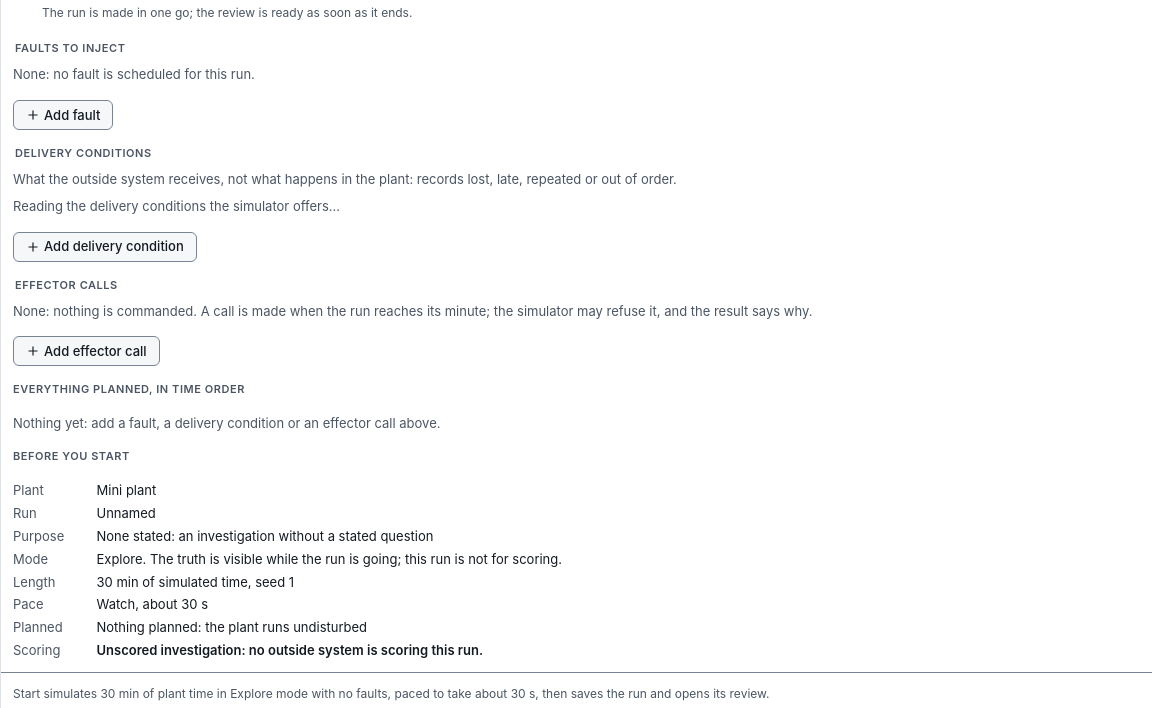
Test case: the unit an effector argument declares, in the run plan › shows none when the argument declares none
(page scrolled)
Click the button "Add effector call" at [86, 351], box [13,336,160,366]
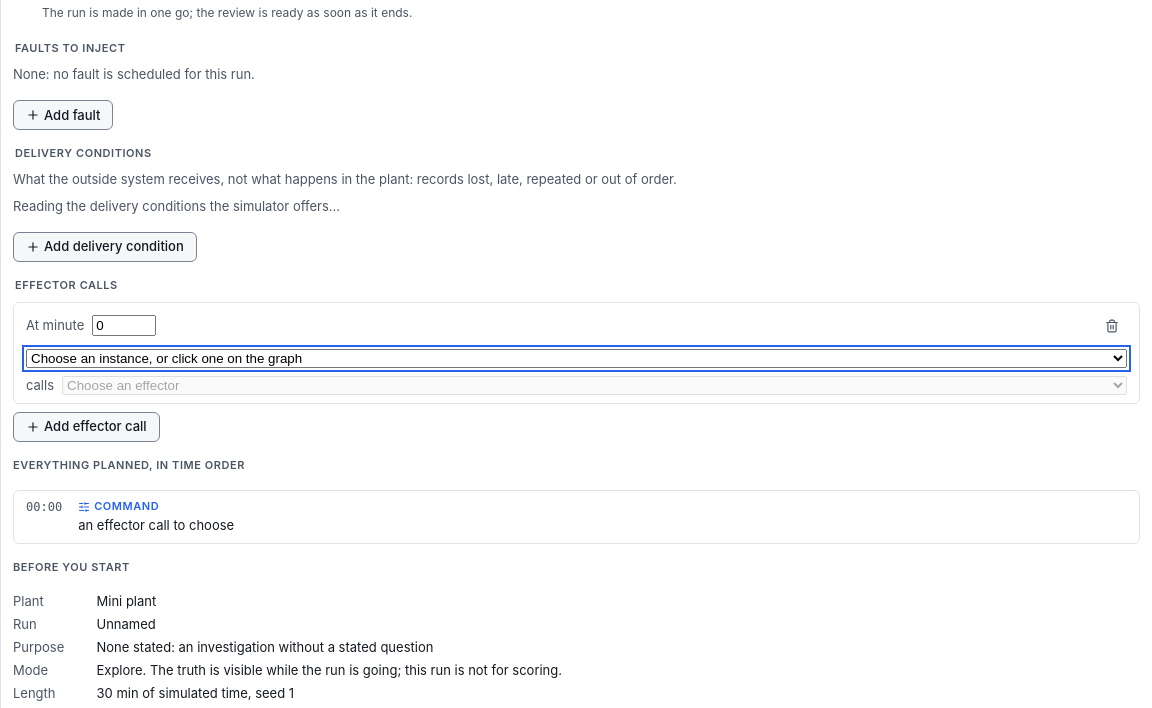
Select "CH-1 · chiller" in the dropdown named "Effector call 1 instance" at [576, 358], box [26,349,1127,368]
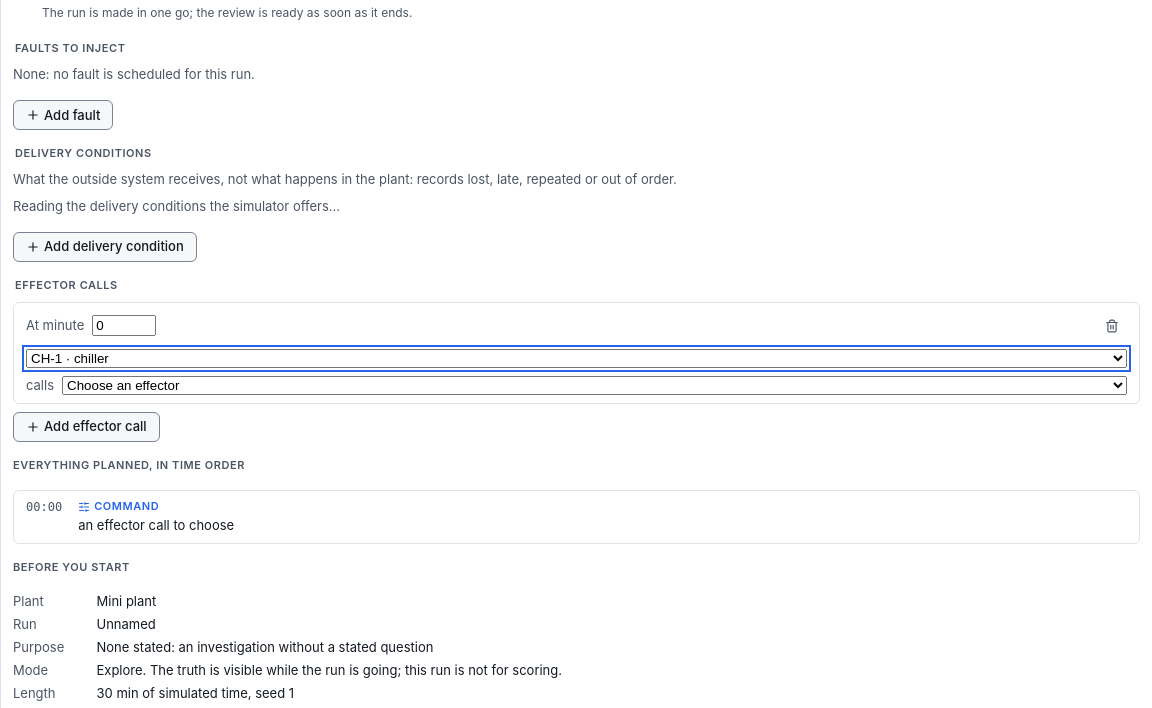
Select "set setpoint" in the dropdown named "Effector call 1 effector" at [594, 385], box [62,376,1127,395]
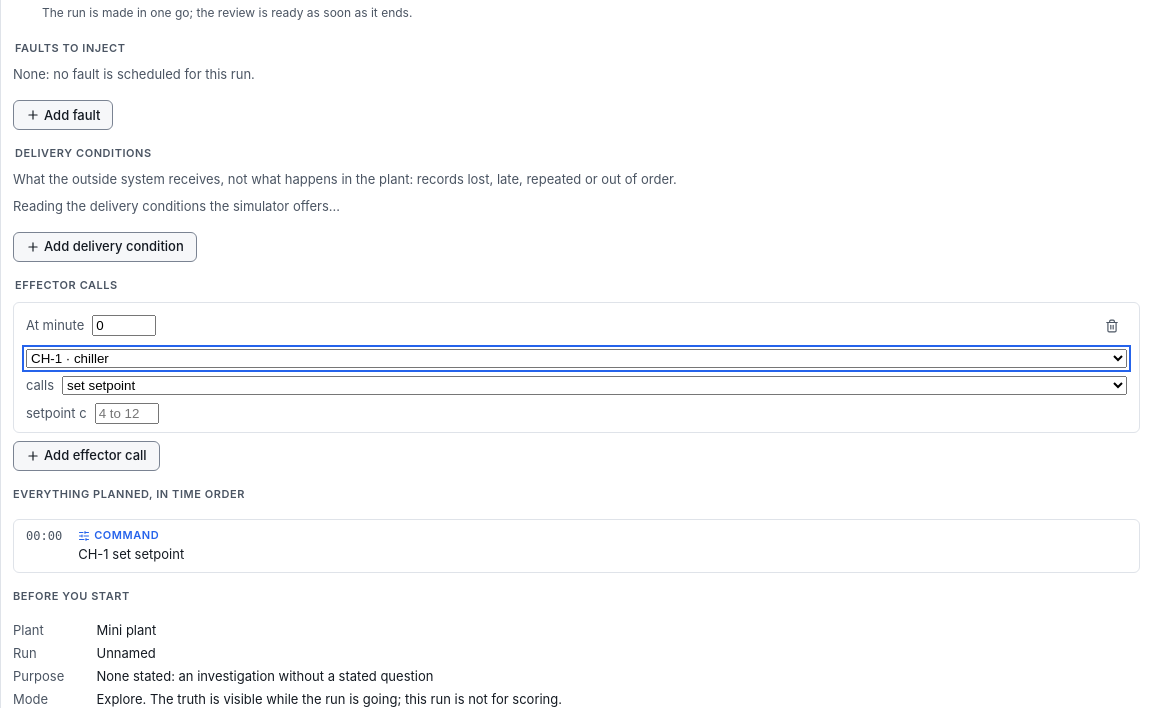
Type "7" into the field named "Effector call 1 setpoint c" at [127, 413], box [95,403,159,424]
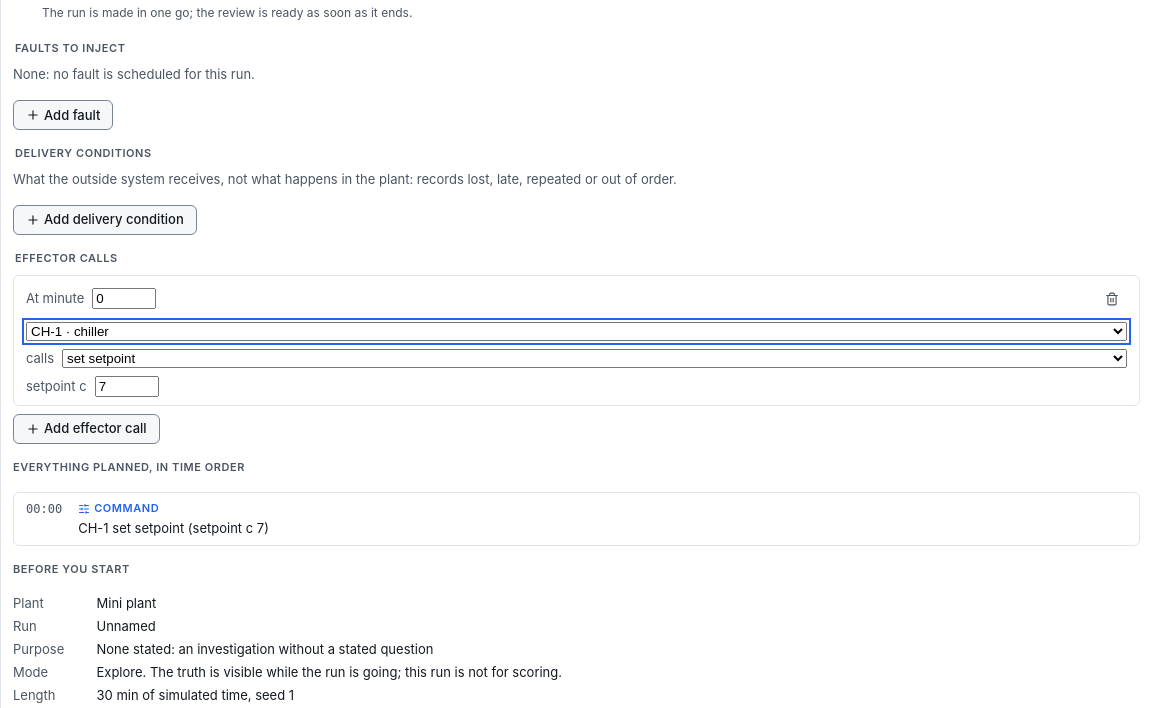
expect the text "CH-1 set setpoint (setpoint c 7)" is shown: met, box [78,520,269,536]
